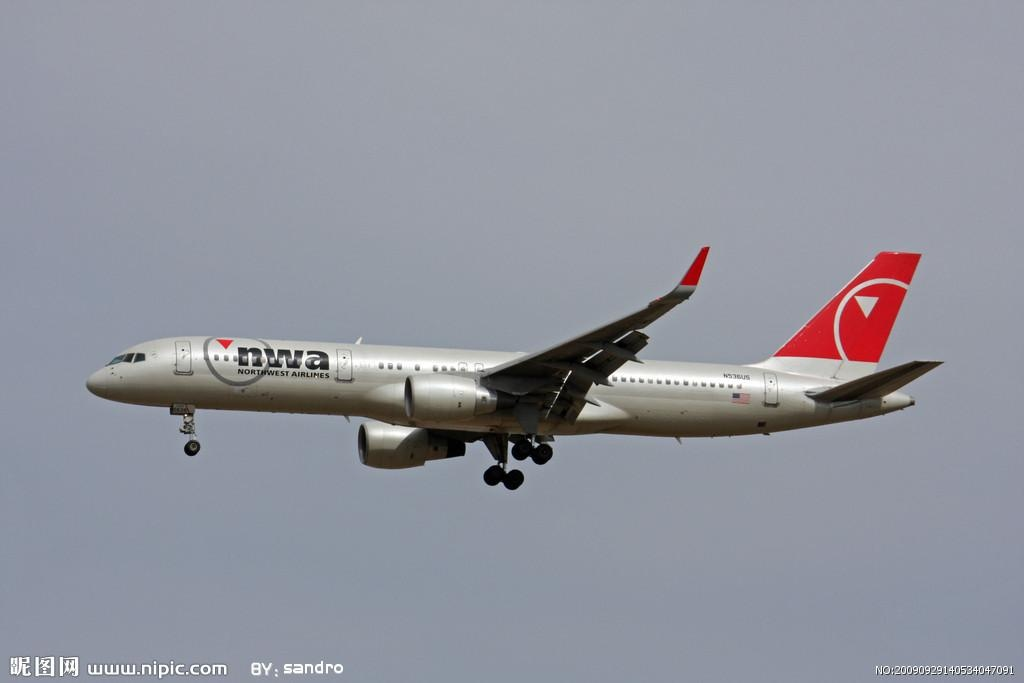airplane: (83, 240, 944, 488)
